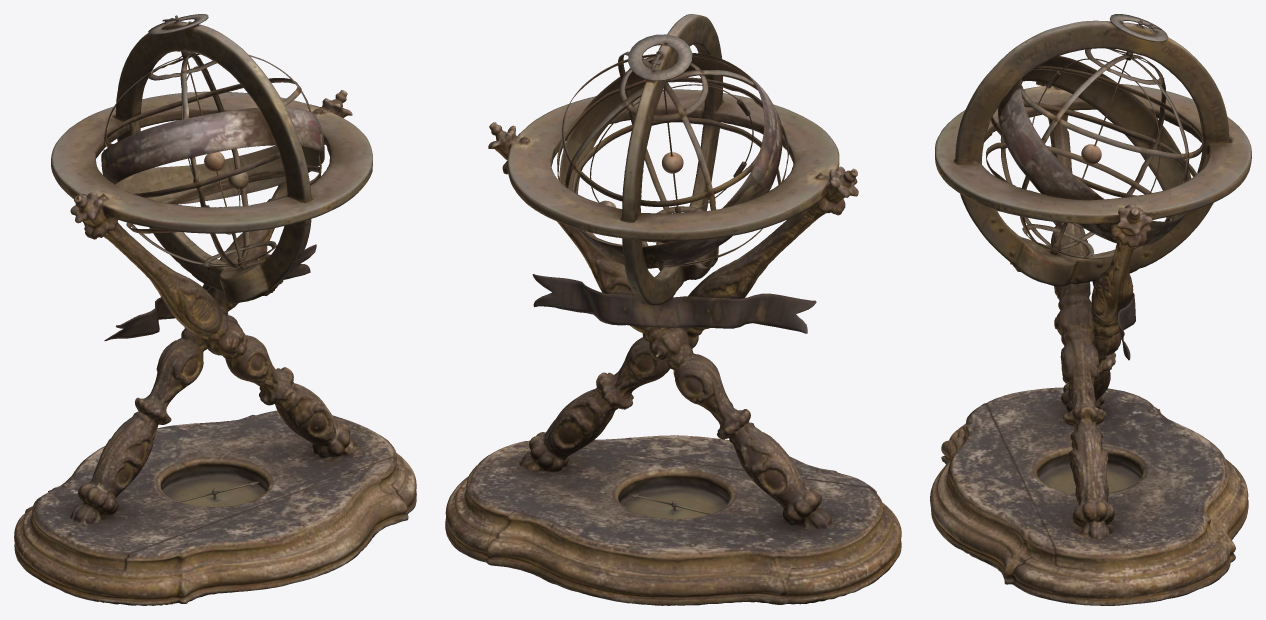
The model's file is ephemeris.glb.
3 views of the same model, side by side, from view 1: azimuth 30°, elevation 25°; view 2: azimuth 150°, elevation 25°; view 3: azimuth 270°, elevation 25° (orthographic). The views are drawn at different scales.
Visible parts, largest first — view 1: Object_3, Object_5, Object_4, Object_2, Object_6; view 2: Object_3, Object_5, Object_4, Object_6, Object_2; view 3: Object_3, Object_5, Object_4, Object_2.
Part boxes in pixels (x1,y1,x2,y2): Object_3: [37, 14, 416, 605]; Object_5: [14, 27, 415, 602]; Object_4: [51, 21, 403, 604]; Object_2: [161, 464, 267, 506]; Object_6: [14, 504, 212, 605]; Object_3: [447, 25, 883, 604]; Object_5: [445, 14, 901, 605]; Object_4: [453, 26, 857, 602]; Object_6: [662, 477, 901, 605]; Object_2: [618, 476, 729, 518]; Object_3: [938, 14, 1249, 605]; Object_5: [934, 20, 1251, 601]; Object_4: [930, 20, 1251, 600]; Object_2: [1037, 454, 1142, 492].
Bounding box in the file's own units: 0.4141 × 0.5102 × 0.3041.
2 materials, 1 textured.
